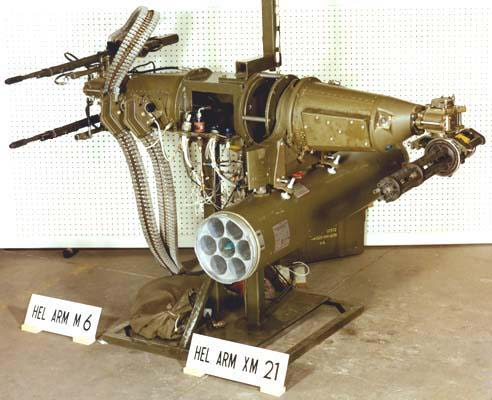rifle: (6, 25, 476, 293)
